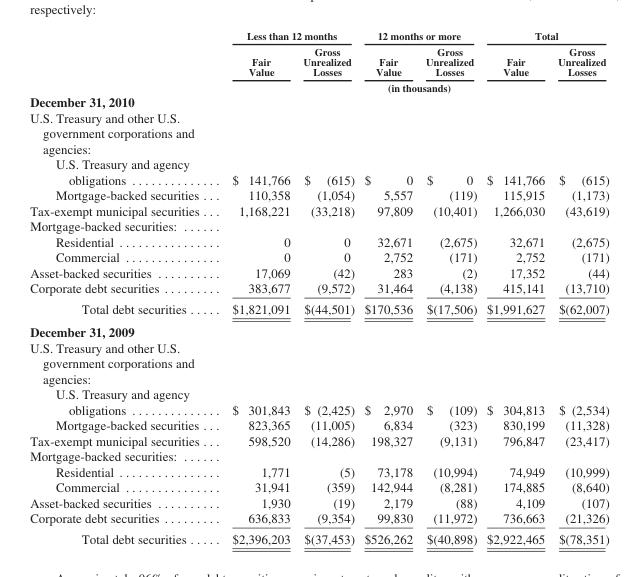table: (29, 29, 608, 545)
table column: (29, 29, 215, 545), (215, 29, 296, 545), (481, 29, 550, 545), (418, 29, 481, 545), (296, 29, 358, 545), (358, 29, 418, 545), (550, 29, 608, 545)
table column header: (29, 29, 608, 93)
table projected row header: (29, 109, 608, 156), (29, 339, 608, 386), (29, 319, 608, 339), (29, 93, 608, 109), (29, 218, 608, 233), (29, 448, 608, 463)
table row: (29, 109, 608, 156), (29, 339, 608, 386), (29, 43, 608, 79), (29, 156, 608, 187), (29, 386, 608, 417), (29, 298, 608, 319), (29, 319, 608, 339), (29, 280, 608, 298), (29, 510, 608, 528), (29, 528, 608, 545), (29, 93, 608, 109), (29, 202, 608, 218), (29, 233, 608, 249), (29, 264, 608, 280), (29, 432, 608, 448), (29, 463, 608, 479), (29, 494, 608, 510), (29, 187, 608, 202), (29, 218, 608, 233), (29, 249, 608, 264), (29, 417, 608, 432), (29, 448, 608, 463), (29, 479, 608, 494), (29, 29, 608, 43), (29, 79, 608, 93)
table spanning cell: (215, 79, 608, 93), (215, 29, 358, 43), (481, 29, 608, 43), (358, 29, 481, 43)
